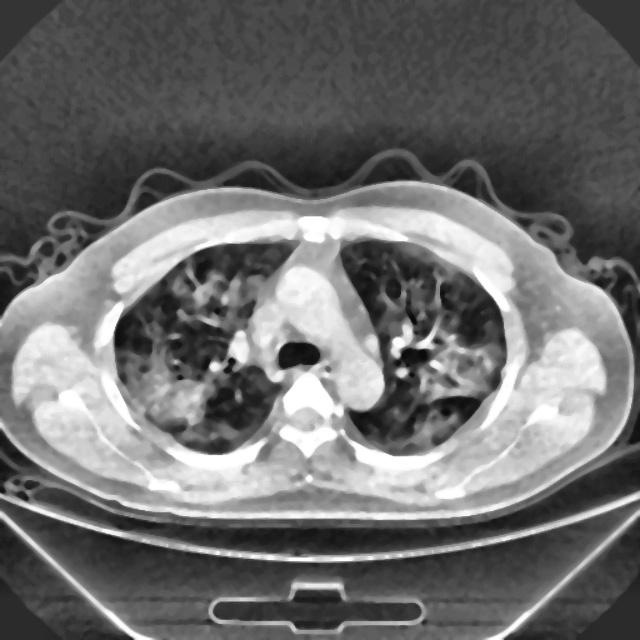covid: (1, 158, 636, 528)
